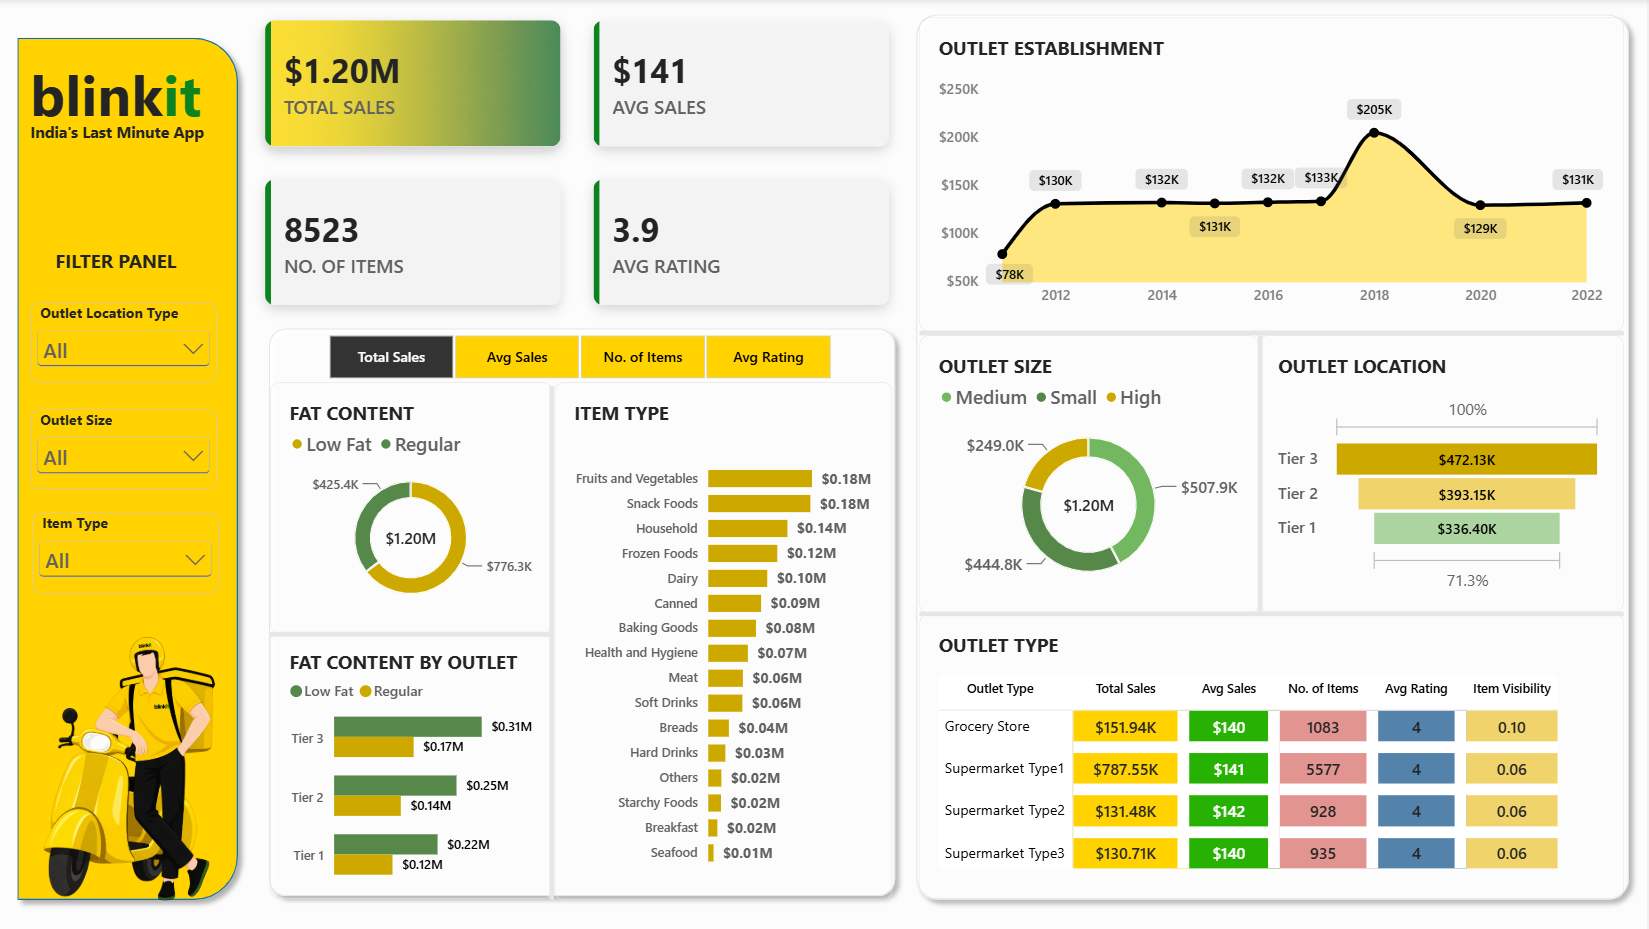

What the dashboard file says about the page in this screenshot:
{"tool":"powerbi","page":{"name":"Page 1","canvas":[1400,800],"ordinal":0},"visuals":[{"type":"shape","box":[6.7,24.8,205.4,750.3],"z":0},{"type":"textbox","box":[26.6,48,185.5,72.9],"z":1000},{"type":"textbox","box":[26.6,104.3,159,33.1],"z":2000},{"type":"cardVisual","fields":{"Data":["BlinkIT Grocery Data.Total Sales","BlinkIT Grocery Data.Avg Sales","BlinkIT Grocery Data.No. of Items","BlinkIT Grocery Data.Avg Rating"]},"box":[211.6,5,558.3,270],"z":3000},{"type":"shape","box":[219.7,272.2,549.9,500.2],"z":4000},{"type":"donutChart","title":"FAT CONTENT","fields":{"Category":["BlinkIT Grocery Data.Item Fat Content"],"Y":["BlinkIT Grocery Data.Total Sales"]},"box":[229.5,325.6,240,213.3],"z":5000},{"type":"slicer","fields":{"Values":["Metrics.Metrics"]},"box":[259.9,285.5,465,40],"z":6000},{"type":"clusteredBarChart","title":"FAT CONTENT BY OUTLET","fields":{"Category":["BlinkIT Grocery Data.Outlet Location Type"],"Series":["BlinkIT Grocery Data.Item Fat Content"],"Y":["BlinkIT Grocery Data.Total Sales"]},"box":[229.7,538.9,240.2,226.9],"z":7000},{"type":"shape","box":[230,441.7,240,196.7],"z":8000},{"type":"shape","box":[349.5,328.9,240,436.7],"z":9000},{"type":"barChart","title":"ITEM TYPE","fields":{"Category":["BlinkIT Grocery Data.Item Type"],"Y":["BlinkIT Grocery Data.Total Sales"]},"box":[472.8,325.6,286.7,440],"z":10000},{"type":"shape","box":[770.2,5,623.3,770],"z":11000},{"type":"lineChart","title":"OUTLET ESTABLISHMENT","fields":{"Category":["BlinkIT Grocery Data.Outlet Establishment Year"],"Y":["BlinkIT Grocery Data.Total Sales"]},"box":[781.7,16.7,598.3,266.7],"z":12000},{"type":"shape","box":[781.9,66.7,598.3,436.7],"z":13000},{"type":"donutChart","title":"OUTLET SIZE","fields":{"Category":["BlinkIT Grocery Data.Outlet Size"],"Y":["BlinkIT Grocery Data.Total Sales"]},"box":[781.9,286.7,288.3,236.7],"z":14000},{"type":"shape","box":[1000.2,286.7,141.7,236.7],"z":15000},{"type":"funnel","title":"OUTLET LOCATION","fields":{"Category":["BlinkIT Grocery Data.Outlet Location Type"],"Y":["BlinkIT Grocery Data.Total Sales"]},"box":[1070.2,286.7,310,235],"z":16000},{"type":"shape","box":[781.9,305,598.3,436.7],"z":17000},{"type":"pivotTable","title":"OUTLET TYPE","fields":{"Rows":["BlinkIT Grocery Data.Outlet Type"],"Values":["BlinkIT Grocery Data.Total Sales","BlinkIT Grocery Data.Avg Sales","BlinkIT Grocery Data.No. of Items","BlinkIT Grocery Data.Avg Rating","Avg(BlinkIT Grocery Data.Item Visibility)"]},"box":[781.9,523.3,598.3,241.7],"z":18000},{"type":"slicer","fields":{"Values":["BlinkIT Grocery Data.Outlet Location Type"]},"box":[26.7,258.3,158.3,68.3],"z":19000},{"type":"slicer","fields":{"Values":["BlinkIT Grocery Data.Outlet Size"]},"box":[26.7,350,158.3,68.3],"z":20000},{"type":"slicer","fields":{"Values":["BlinkIT Grocery Data.Item Type"]},"box":[28.3,436.7,158.3,68.3],"z":21000},{"type":"textbox","box":[47.4,211.2,136.7,21.7],"z":22000},{"type":"image","box":[0,523.3,245,261.7],"z":23000}]}

Visuals, with their boxes in screenshot pixels (x1, y1, x2, y2), scaled from the page's 1400x800 canvas onto the 1649x929 screenshot:
shape: <box>8,29,250,900</box>
textbox: <box>31,56,250,140</box>
textbox: <box>31,121,219,160</box>
cardVisual - BlinkIT Grocery Data.Total Sales x BlinkIT Grocery Data.Avg Sales: <box>249,6,907,319</box>
shape: <box>259,316,906,897</box>
"FAT CONTENT" donutChart: <box>270,378,553,626</box>
slicer - Metrics.Metrics: <box>306,332,854,378</box>
"FAT CONTENT BY OUTLET" clusteredBarChart: <box>271,626,553,889</box>
shape: <box>271,513,554,741</box>
shape: <box>412,382,694,889</box>
"ITEM TYPE" barChart: <box>557,378,895,889</box>
shape: <box>907,6,1641,900</box>
"OUTLET ESTABLISHMENT" lineChart: <box>921,19,1625,329</box>
shape: <box>921,77,1626,585</box>
"OUTLET SIZE" donutChart: <box>921,333,1261,608</box>
shape: <box>1178,333,1345,608</box>
"OUTLET LOCATION" funnel: <box>1261,333,1626,606</box>
shape: <box>921,354,1626,861</box>
"OUTLET TYPE" pivotTable: <box>921,608,1626,888</box>
slicer - BlinkIT Grocery Data.Outlet Location Type: <box>31,300,218,379</box>
slicer - BlinkIT Grocery Data.Outlet Size: <box>31,406,218,486</box>
slicer - BlinkIT Grocery Data.Item Type: <box>33,507,220,586</box>
textbox: <box>56,245,217,270</box>
image: <box>0,608,289,912</box>
